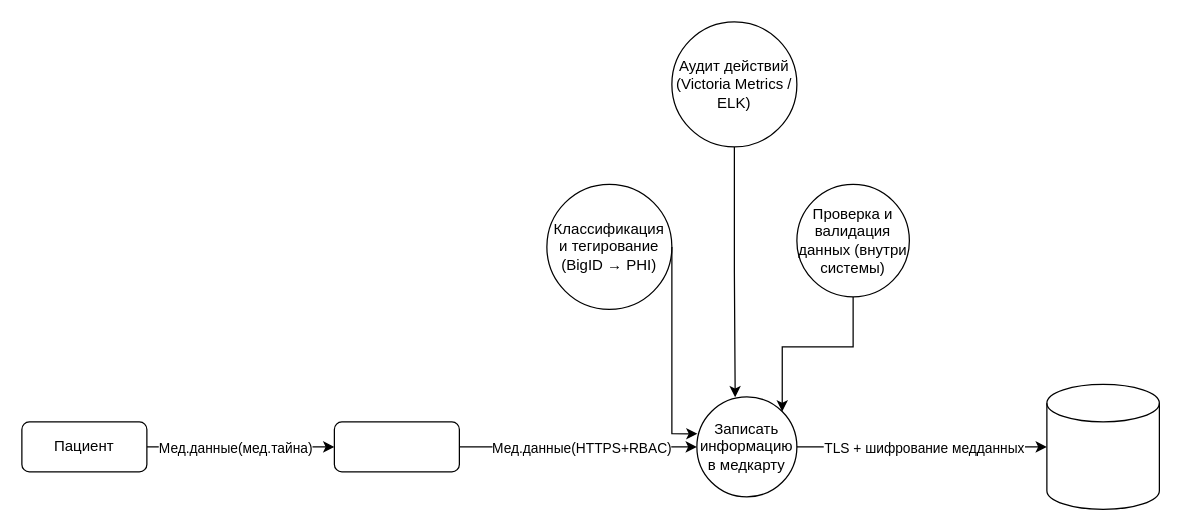
The diagram is 1181 pixels wide and 531 high, and some of its shapes have lost their labels. The centre of each missing label's shape, as x and y in pixels:
"PostgreSQL (шифрование)" belongs at pixel 1102 446.
"Врач" belongs at pixel 396 446.
